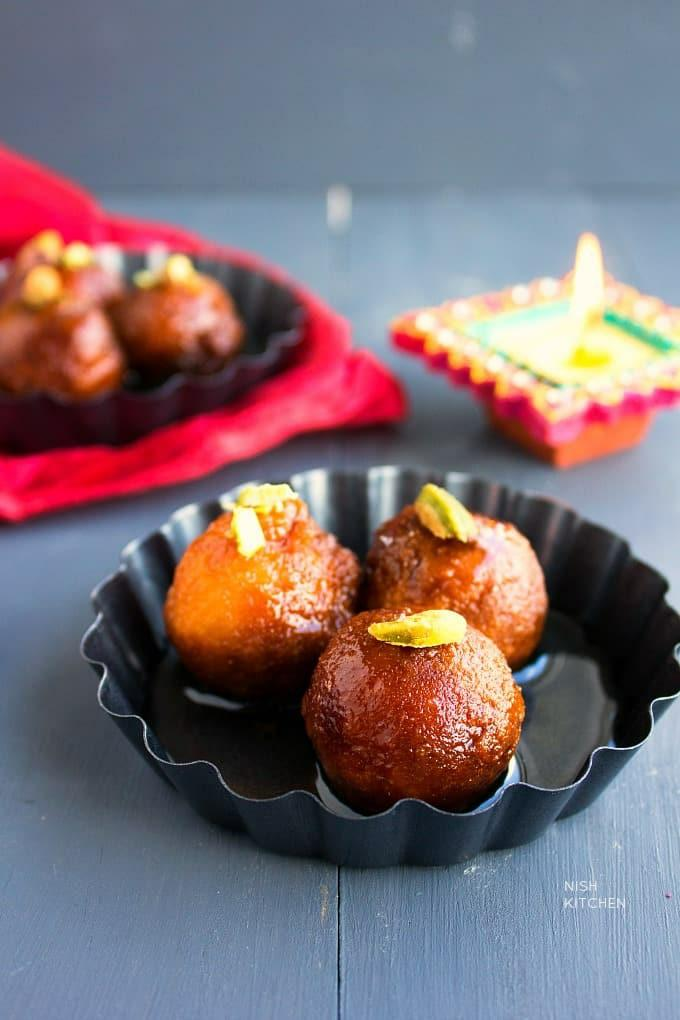GulabJamun: (298, 606, 525, 814), (165, 485, 366, 691), (359, 486, 547, 669)
